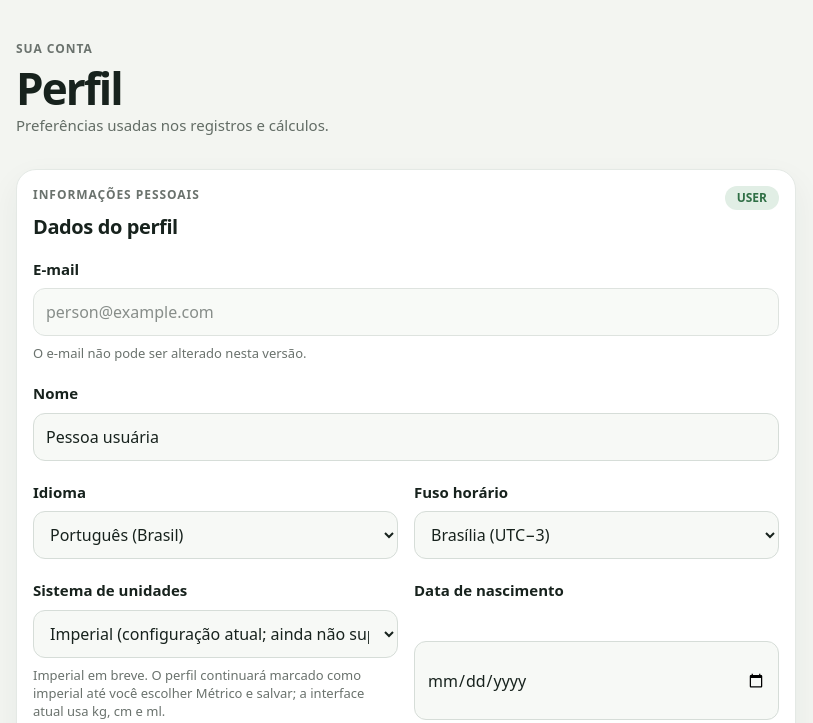
Test: preferência de unidades do perfil › mostra e preserva um valor imperial existente até a troca explícita
Check: the dropdown labelled "Sistema de unidades" shows "Imperial (configuração atual; ainda não suportado)", box [33,610,398,658]
Check: the text "O perfil continuará marcado como imperial até você escolher Métrico e salvar" is shown, box [33,666,364,720]
Replace the text in the field labelled "Nome" with "Nome atualizado" at (406, 437), box [33,413,779,461]
(page scrolled)
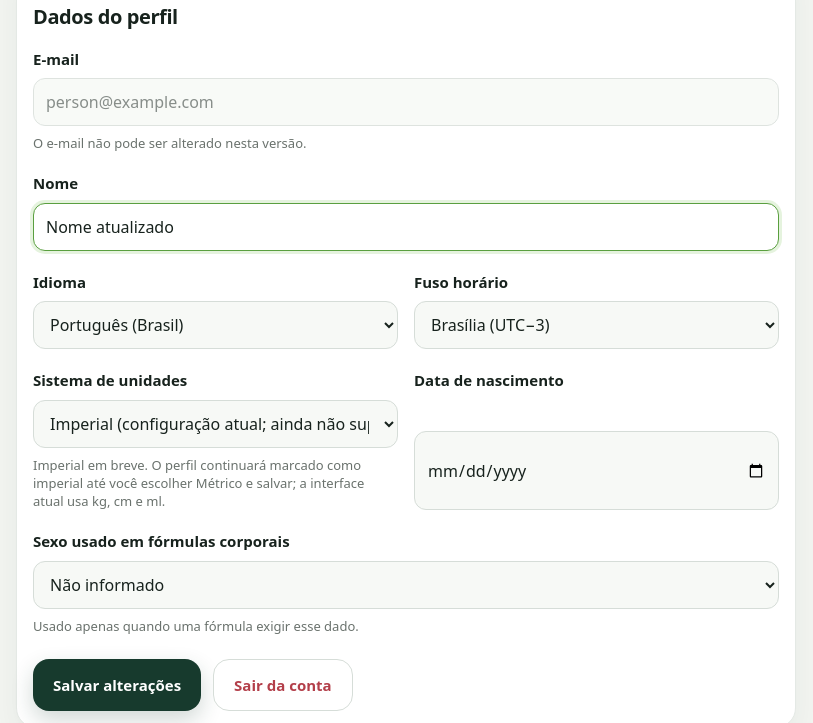
Click the button "Salvar alterações" at (117, 685), box [33,659,201,711]
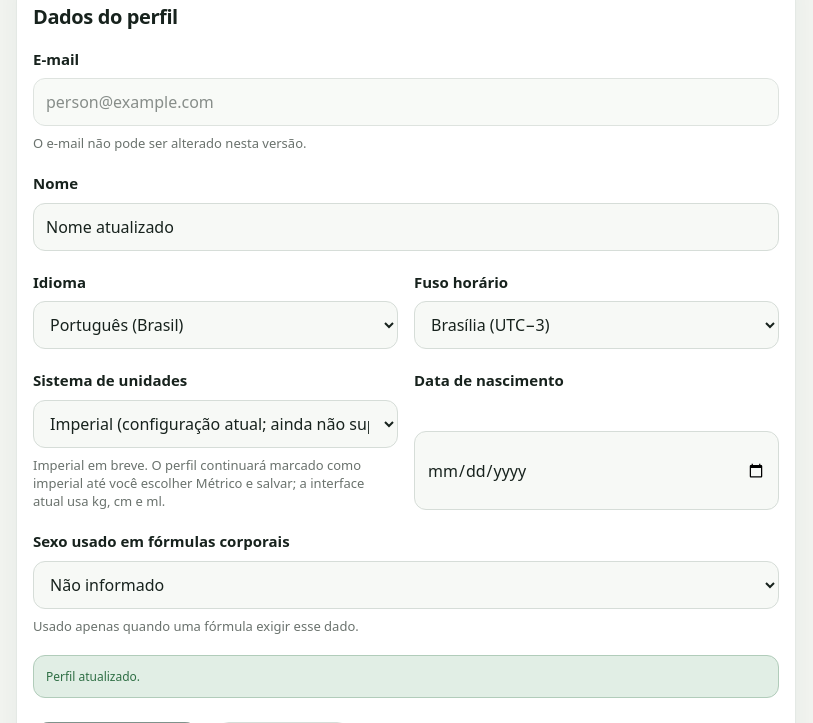
Check: the message reads "Perfil atualizado.", box [46,668,140,685]
